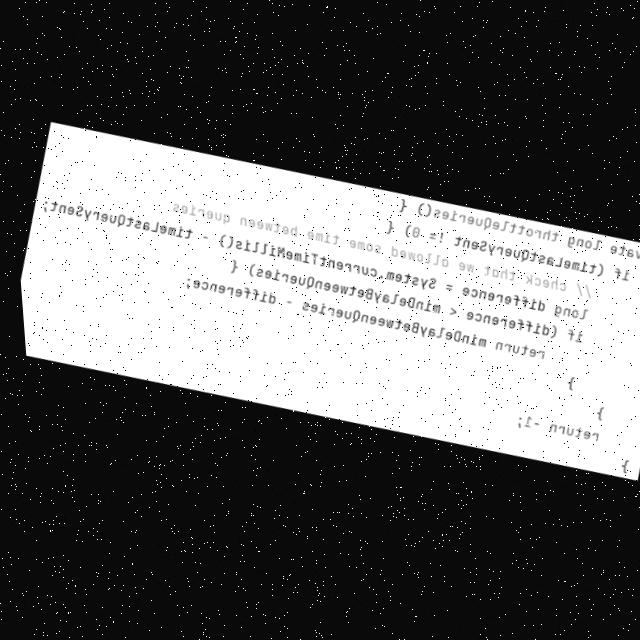code_screen: (21, 123, 640, 479)
